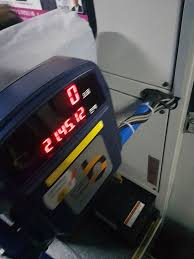terminal: (2, 53, 129, 233)
